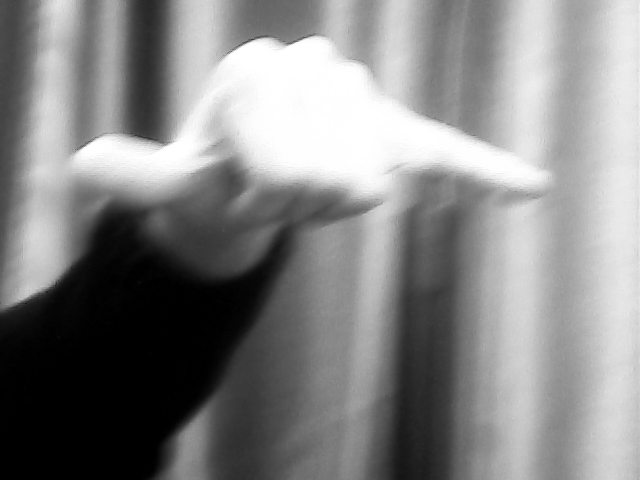aloha: (73, 33, 562, 259)
